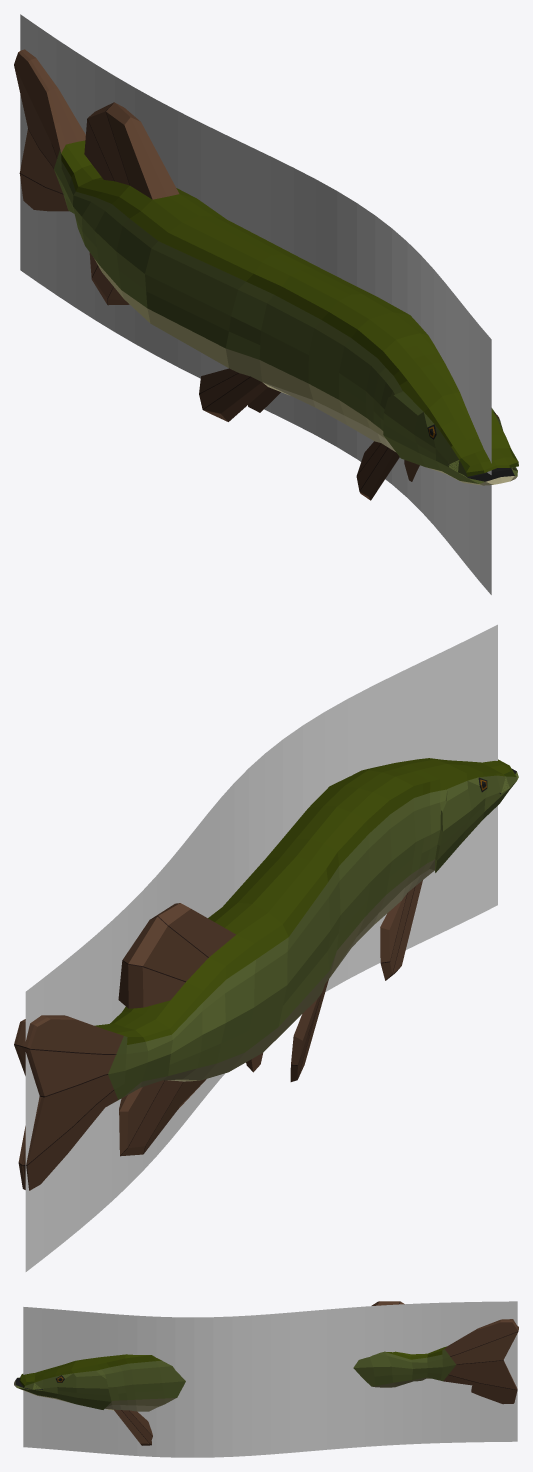
File: pike_color_bright.fbx
3 views of the same model, one above another, from view 1: azimuth 30°, elevation 25°; view 2: azimuth 150°, elevation 25°; view 3: azimuth 270°, elevation 25° (orthographic). The views are drawn at different scales.
Visible parts, largest first — view 1: Pike, Plane; view 2: Pike, Plane; view 3: Plane, Pike.
Boxes of the visible parts, <box> form: Pike: <box>14,49,518,500</box>; Plane: <box>20,14,491,594</box>; Pike: <box>14,758,518,1190</box>; Plane: <box>25,624,497,1271</box>; Plane: <box>23,1301,517,1457</box>; Pike: <box>14,1301,518,1445</box>.
Size of the model in its own units: 78.89 by 148 by 483.
